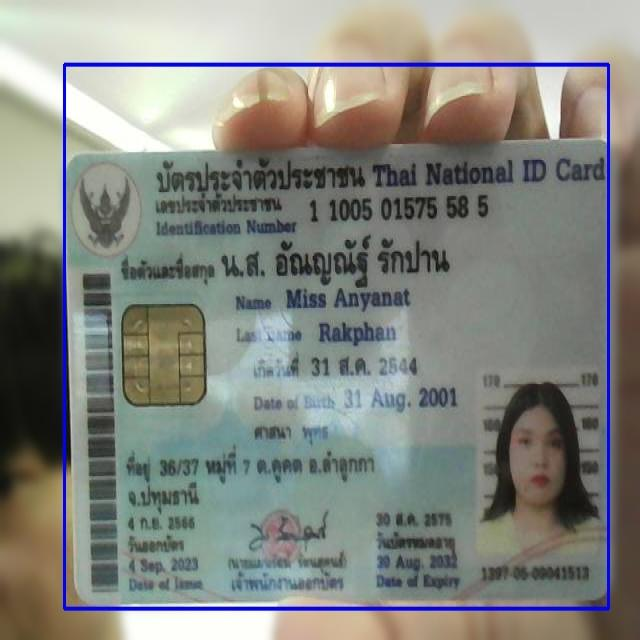Address_th: (120, 443, 398, 518)
Date_of_Birth: (340, 381, 460, 418)
Date_of_Expiry: (377, 550, 461, 573)
Date_of_Issue: (126, 553, 206, 579)
First_Name: (282, 284, 416, 316)
ID_Number: (306, 190, 496, 226)
Image: (477, 369, 605, 564)
Last_Name: (316, 318, 398, 350)
Thai_Name: (217, 229, 466, 292)
